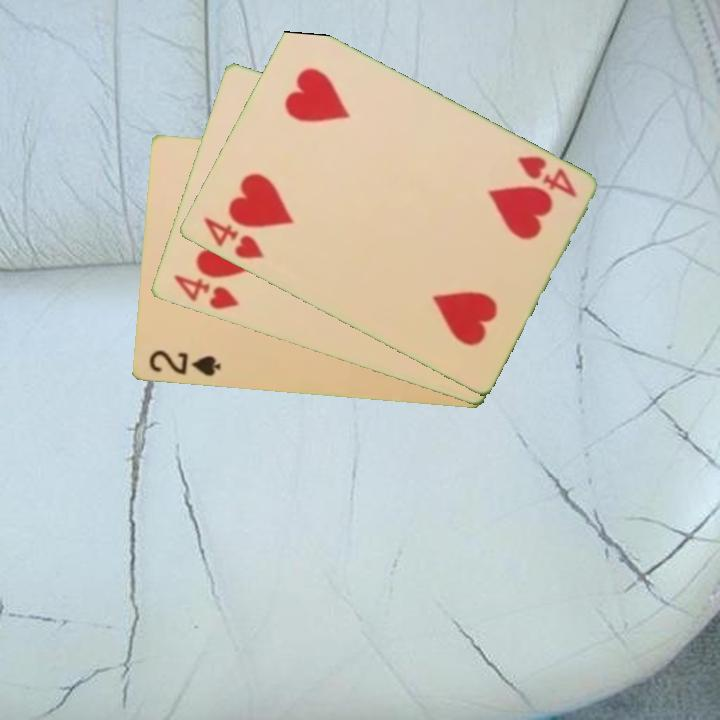2s: (145, 347, 224, 380)
4h: (199, 213, 266, 263), (513, 152, 580, 201), (169, 271, 242, 313)
